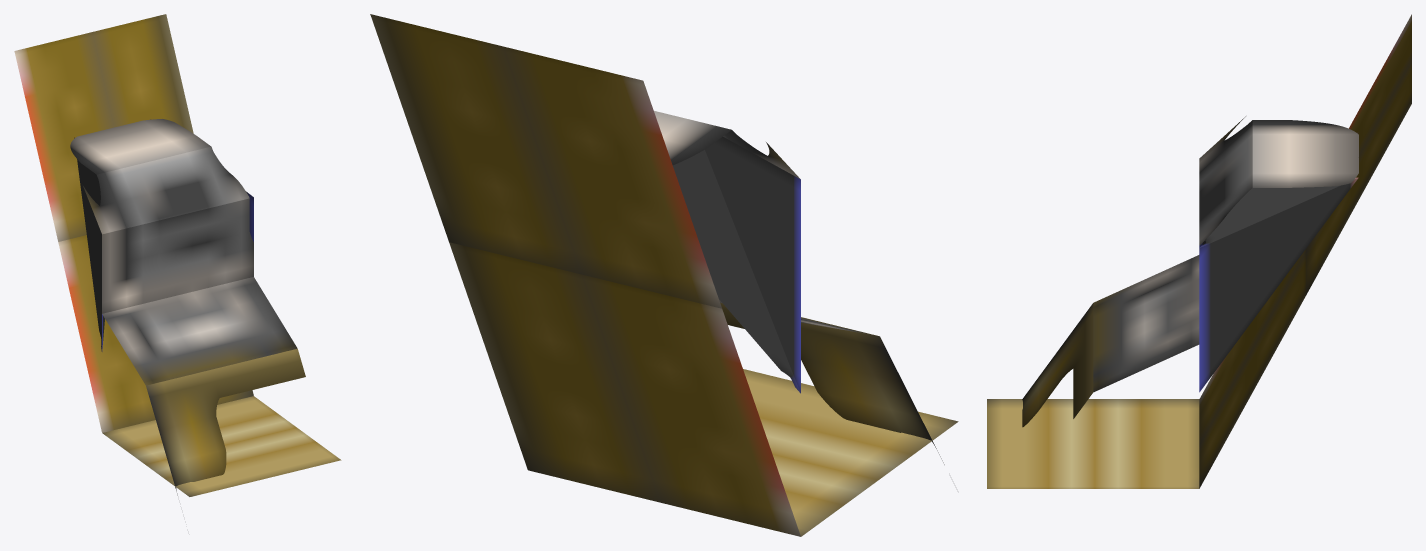
File: tile_indoors_computer.obj
3 views of the same model, side by side, from view 1: azimuth 30°, elevation 25°; view 2: azimuth 150°, elevation 25°; view 3: azimuth 270°, elevation 25° (orthographic). The views are drawn at different scales.
Parts seen in each view (by area): view 1: Default; view 2: Default; view 3: Default.
Part boxes in pixels (x1,y1,x2,y2): Default: (14,14,341,496); Default: (370,14,958,536); Default: (987,14,1411,488).
Bounding box in the file's own units: 1 × 2.25 × 2.
1 material, 1 textured.
